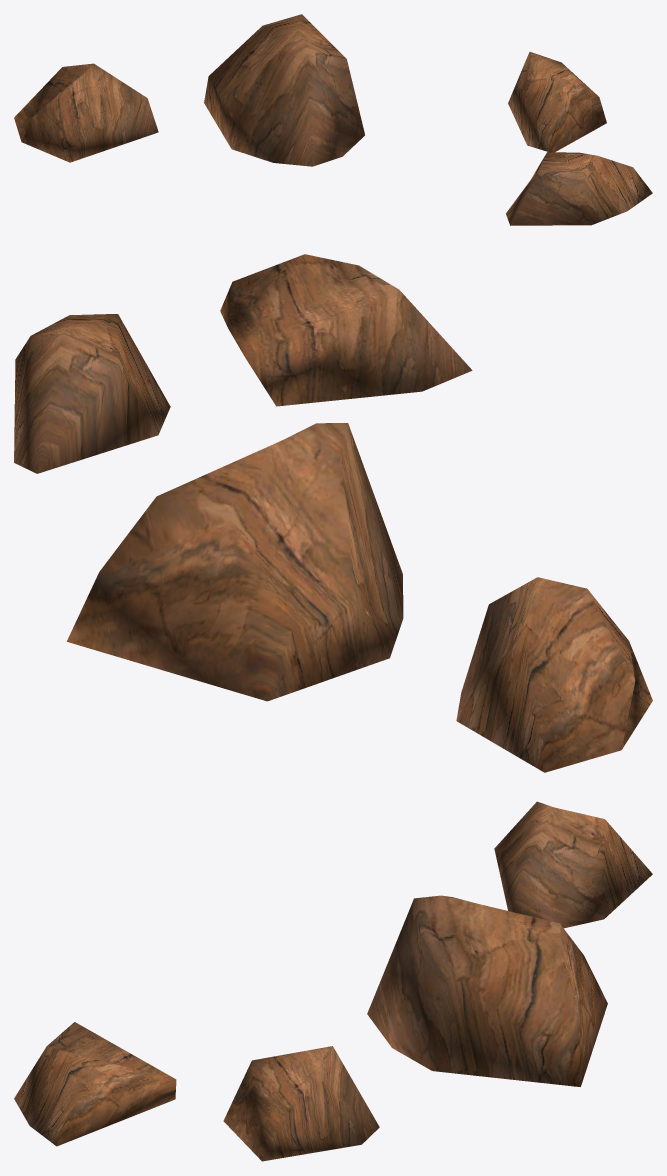
The model's file is rock_tatt_jundland_pebble_l1.fbx.
The picture shows the model from 3 angles, top to bottom: view 1: azimuth 30°, elevation 25°; view 2: azimuth 150°, elevation 25°; view 3: azimuth 270°, elevation 25°; orthographic projection. The views are drawn at different scales.
Visible parts, largest first — view 1: mesh_node; view 2: mesh_node; view 3: mesh_node.
Part boxes in pixels (x1,y1,x2,y2): mesh_node: (14,14,652,225); mesh_node: (14,254,652,772); mesh_node: (14,801,652,1161).
Size of the model in its own units: 0.8359 by 0.186 by 0.7689.
